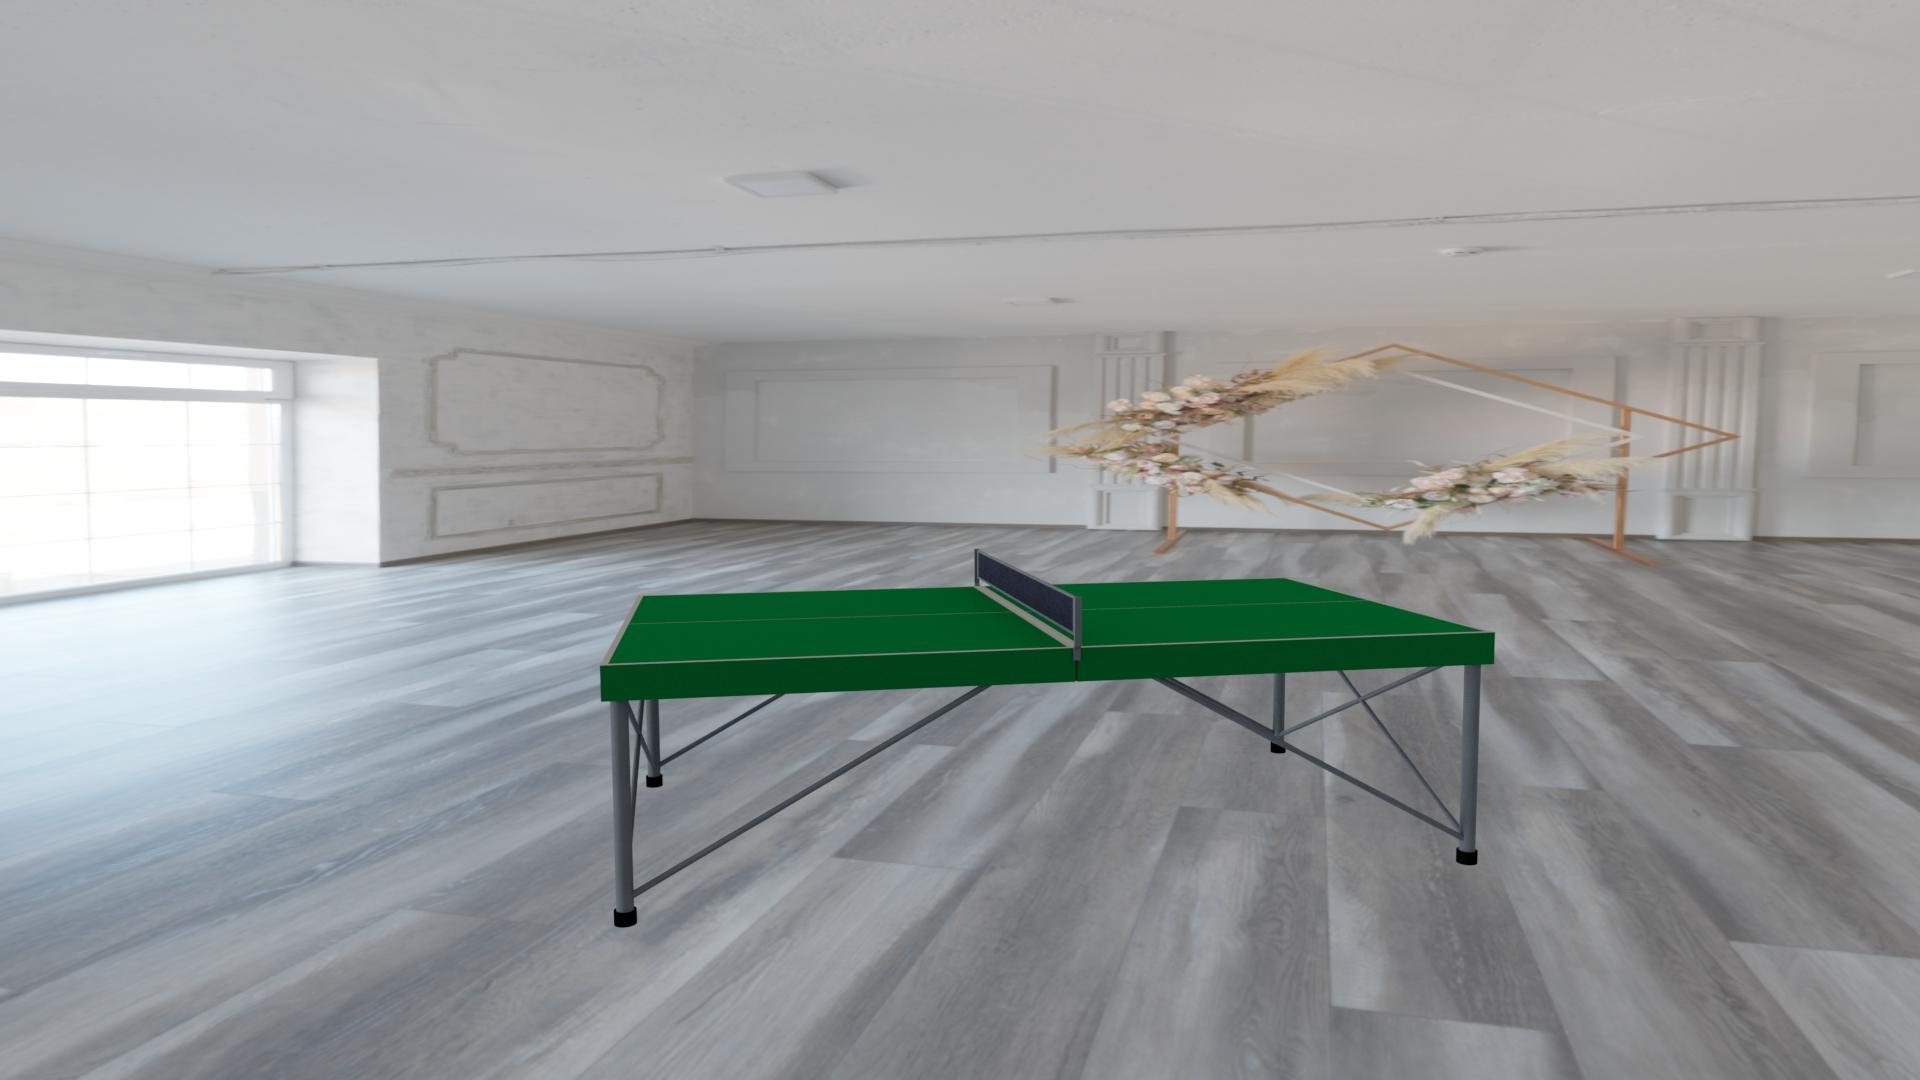table: (608, 578, 1486, 665)
